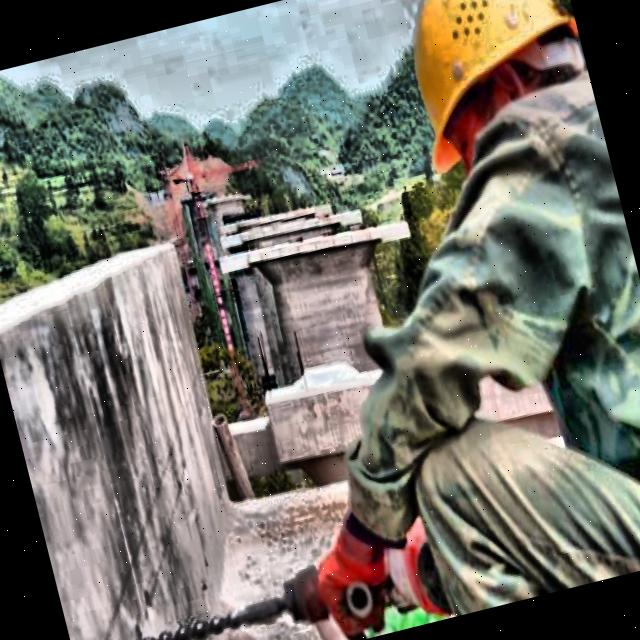helmet: (368, 0, 612, 218)
